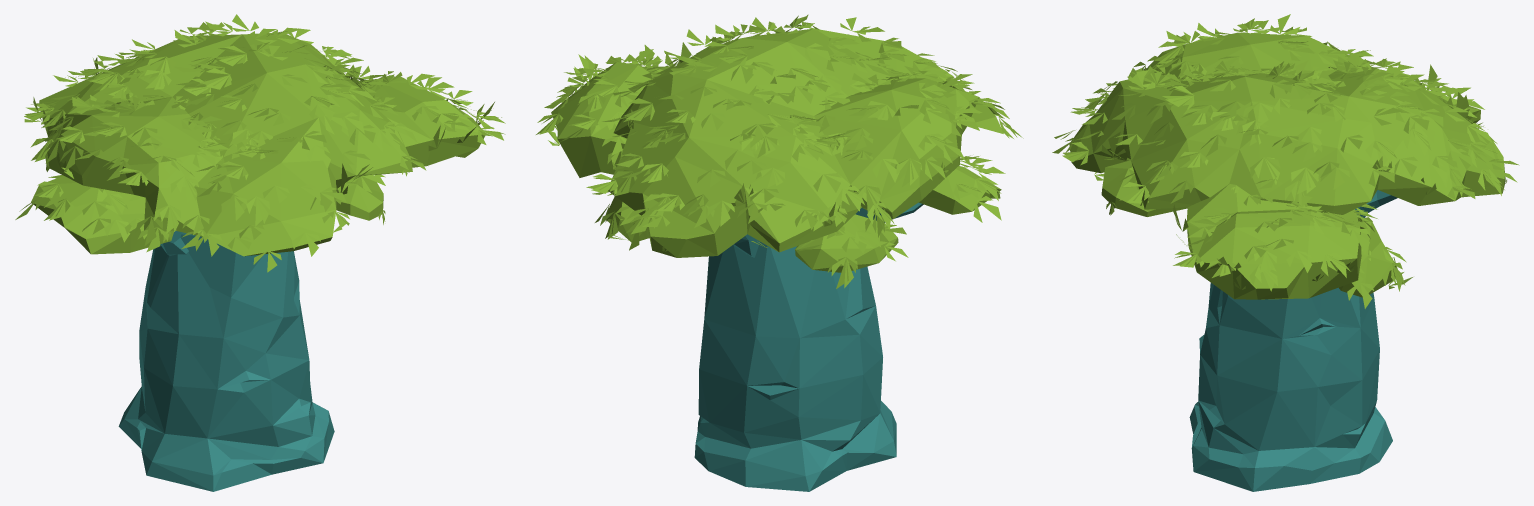
File: tree-baobab-mature-b.fbx
3 renders of one model, left to right at view 1: azimuth 30°, elevation 25°; view 2: azimuth 150°, elevation 25°; view 3: azimuth 270°, elevation 25°, orthographic.
Parts seen in each view (by area): view 1: tree-baobab-mature-b; view 2: tree-baobab-mature-b; view 3: tree-baobab-mature-b.
Boxes of the visible parts, x1,y1,x2,y2 form: tree-baobab-mature-b: (15,14,505,491); tree-baobab-mature-b: (536,14,1023,491); tree-baobab-mature-b: (1052,14,1519,491).
Size of the model in its own units: 12.79 by 10.25 by 11.31.
